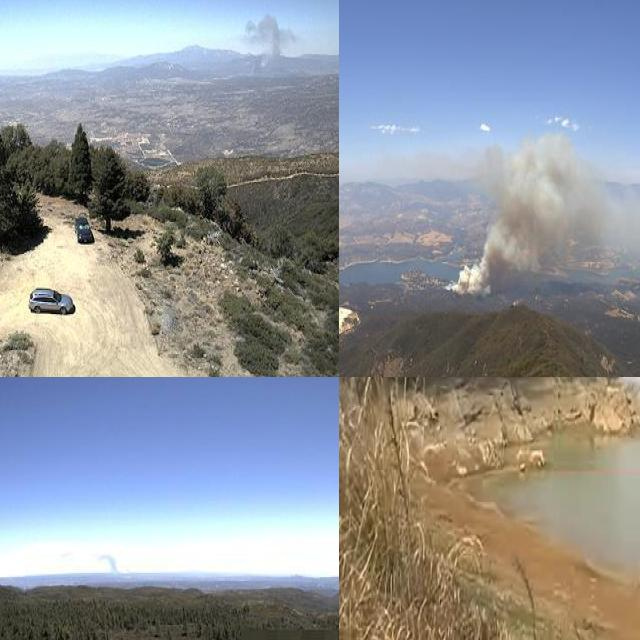smoke: (440, 131, 640, 299), (240, 9, 302, 79), (95, 546, 123, 578)
